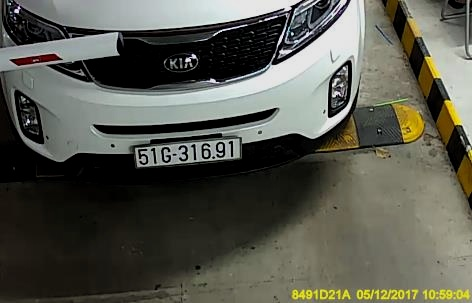plate: (131, 139, 244, 164)
